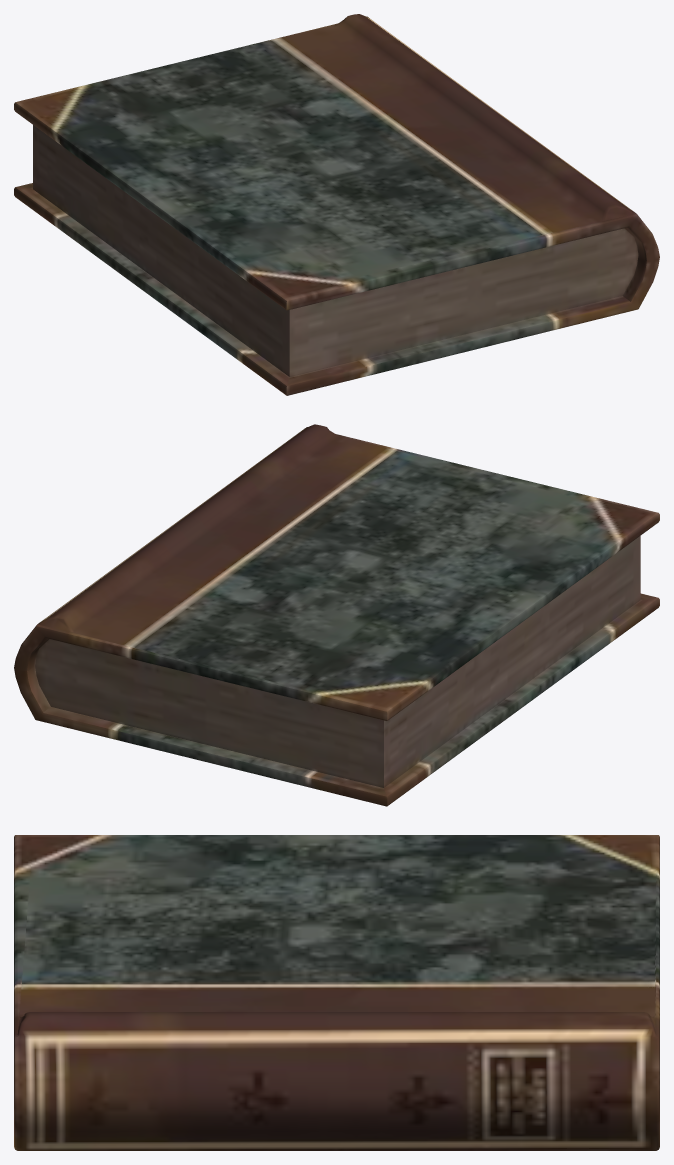
File: obj_old_book_5.glb
3 renders of one model, top to bottom at view 1: azimuth 30°, elevation 25°; view 2: azimuth 150°, elevation 25°; view 3: azimuth 270°, elevation 25°, orthographic. The views are drawn at different scales.
Visible parts, largest first — view 1: defaultMaterial; view 2: defaultMaterial; view 3: defaultMaterial.
Boxes of the visible parts, left/top/right/bottom form: defaultMaterial: left=14, top=14, right=659, bottom=395; defaultMaterial: left=14, top=424, right=659, bottom=806; defaultMaterial: left=14, top=835, right=659, bottom=1150.
Bounding box in the file's own units: 0.1983 × 0.0536 × 0.25.
Materials: 1 (1 with a texture image).
